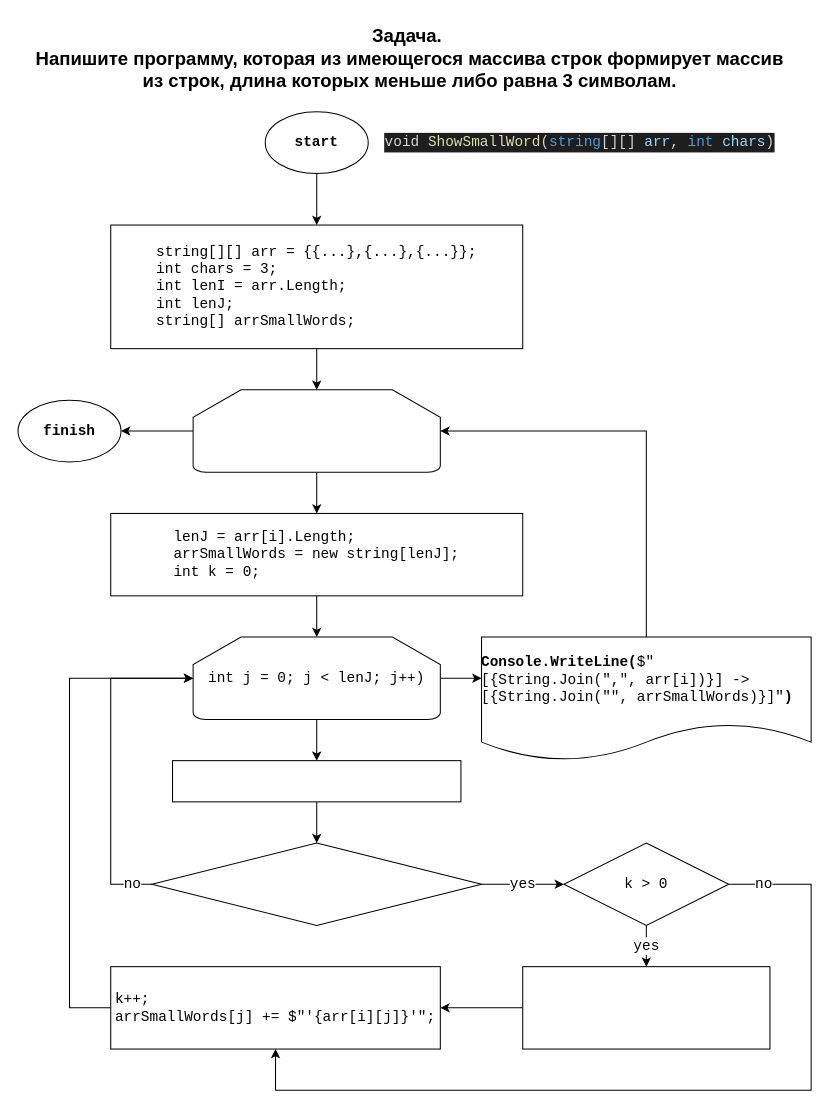
The diagram is 837 pixels wide and 1117 high, and some of its shapes have lost their labels. Here are the shapes that lost their labels. From the top down, the centre of each, then its label:
point (316, 430): int i = 0; i < lenI; i++
point (316, 781): arrSmallWords[j] = String.Empty;
point (316, 883): arr[i][j].Length <= chars
point (646, 1007): arrSmallWords[j] = ",";
